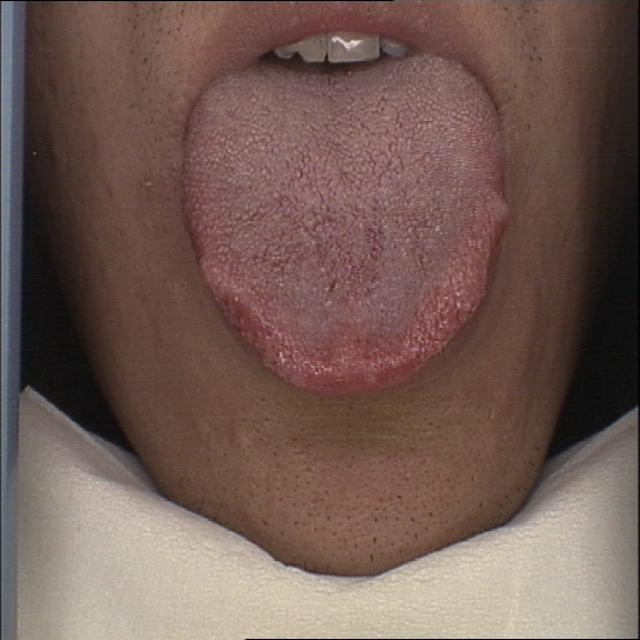tongue: (184, 67, 513, 399)
